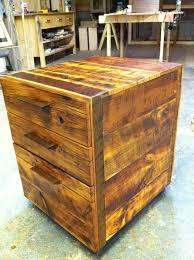Furniture: (2, 45, 180, 250)
